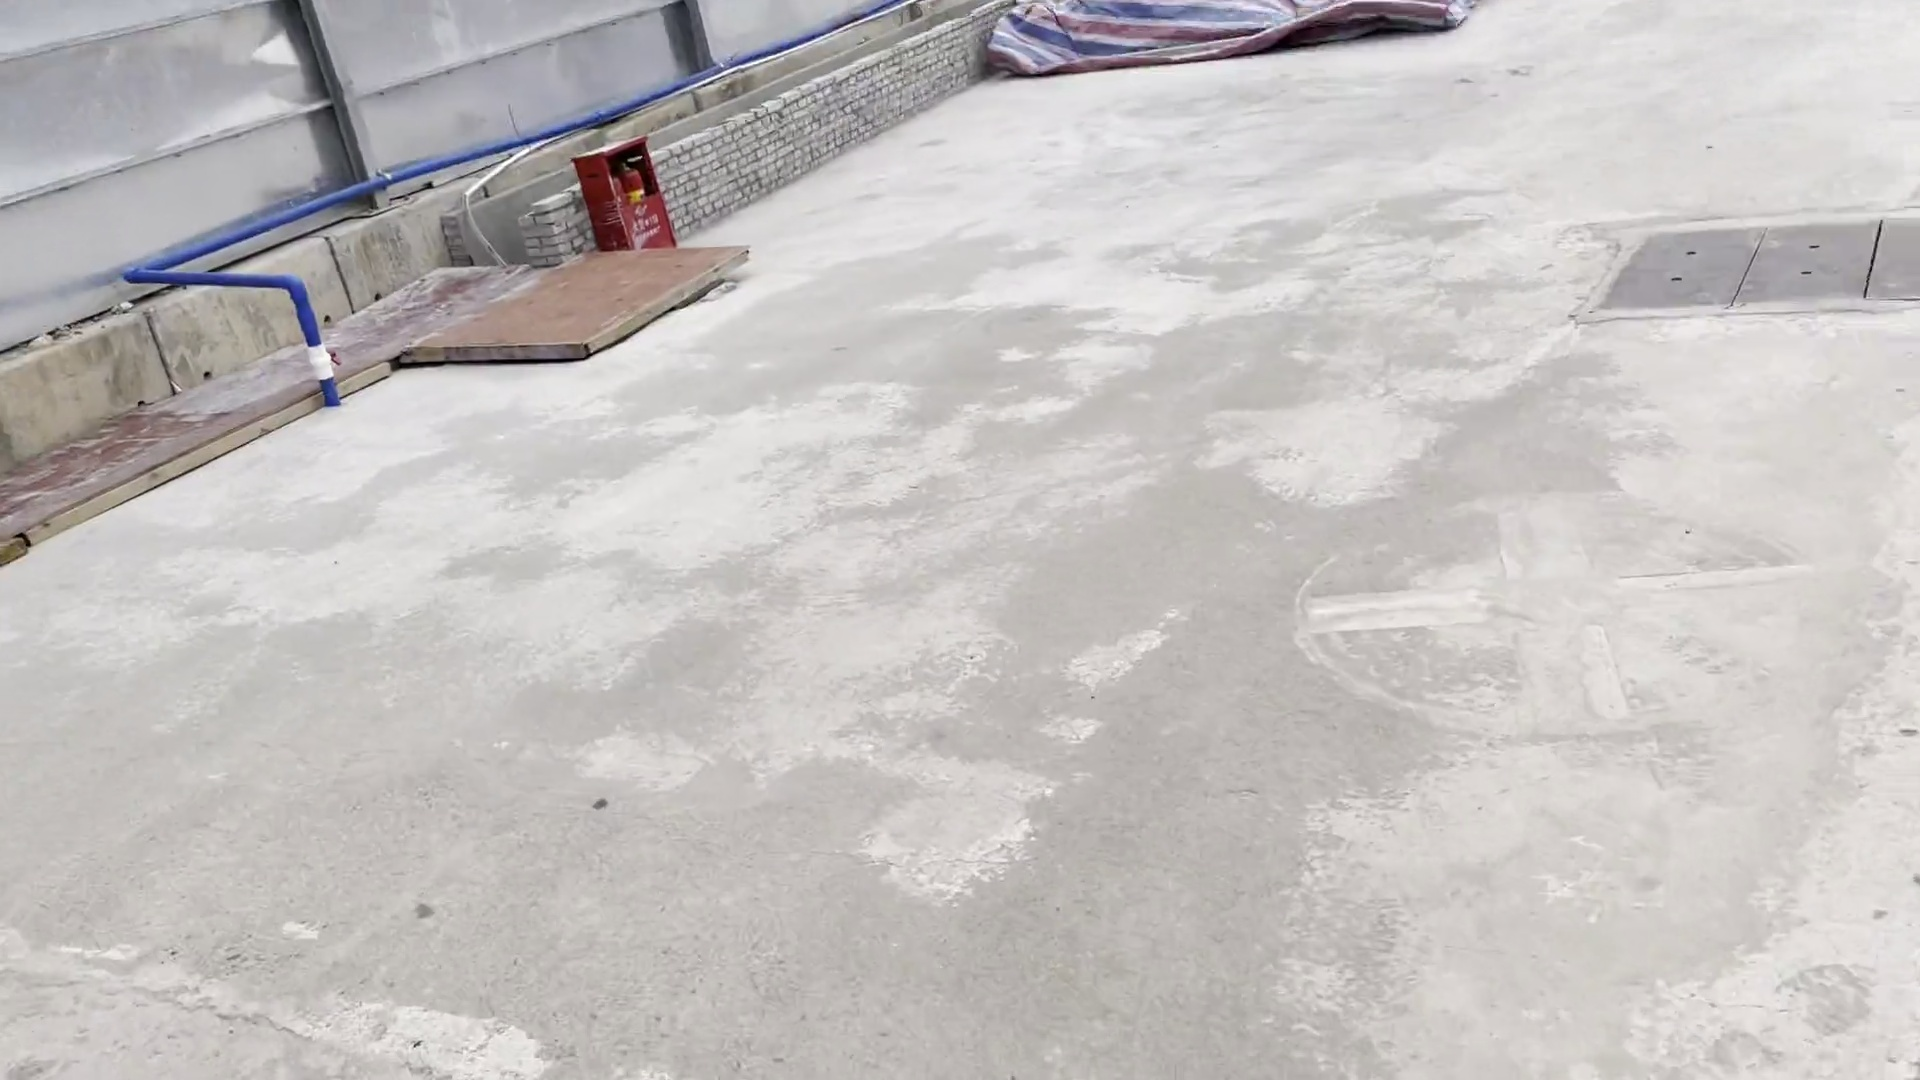board: (1, 247, 781, 578)
brick: (654, 1, 1030, 268), (431, 182, 600, 277)
